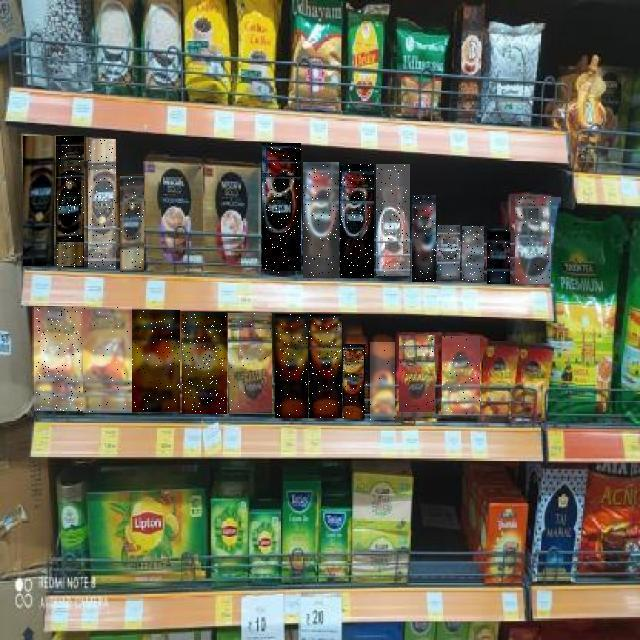Coffee: (83, 307, 132, 413), (34, 307, 83, 411), (262, 144, 301, 274), (132, 310, 180, 412), (182, 312, 227, 414), (228, 313, 272, 413), (303, 162, 339, 278), (23, 136, 54, 266), (340, 164, 374, 278), (376, 164, 410, 276), (56, 136, 84, 267), (89, 139, 117, 269), (275, 314, 308, 418), (309, 314, 342, 418), (515, 196, 551, 284), (442, 336, 480, 415), (399, 336, 435, 416), (121, 176, 145, 272), (413, 195, 437, 282), (370, 342, 395, 420), (344, 344, 368, 419), (437, 225, 460, 280), (487, 230, 510, 284), (462, 226, 484, 282)
